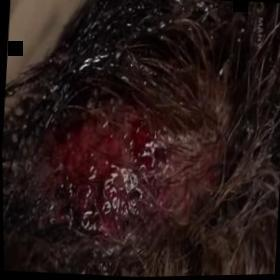skin_lesions: (37, 74, 231, 252)
